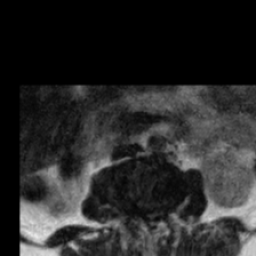CCS_severe_stenosis: (146, 206, 154, 231)
LFS_severe_stenosis: (162, 198, 170, 222)
LLS_severe_stenosis: (154, 205, 162, 225)
RFS_severe_stenosis: (130, 198, 138, 221)
RLS_severe_stenosis: (138, 204, 146, 225)
